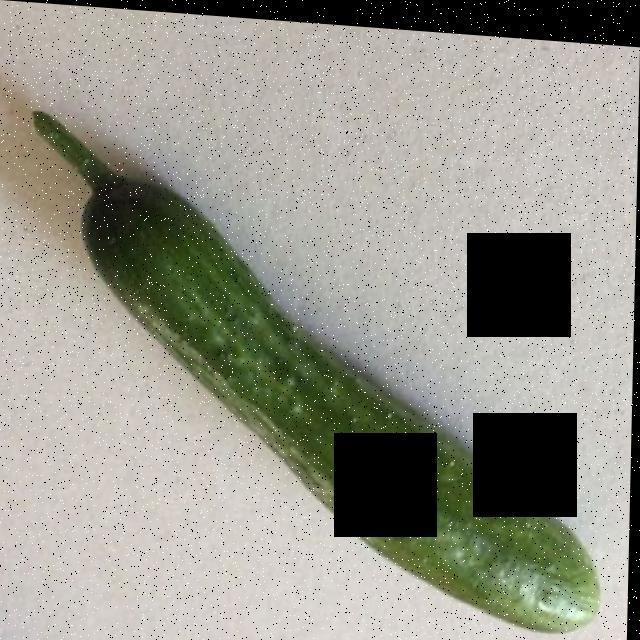cucumber: (72, 154, 598, 613)
